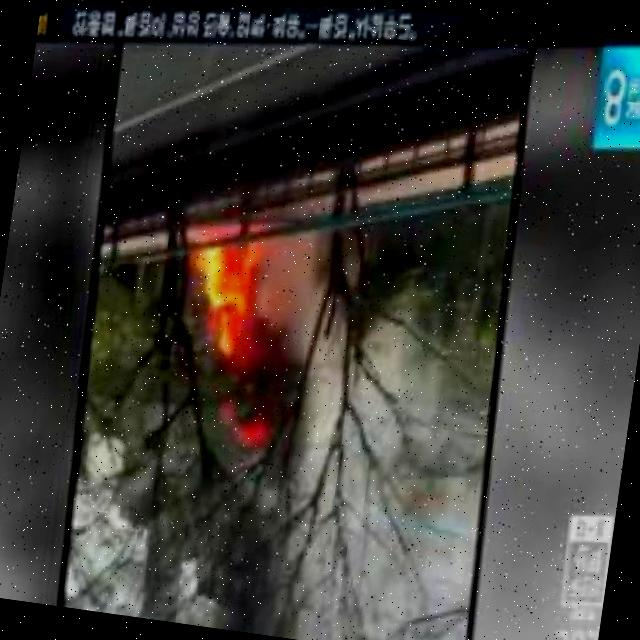fire: (168, 225, 292, 379)
